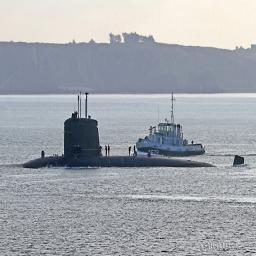submarine: (19, 94, 246, 165)
